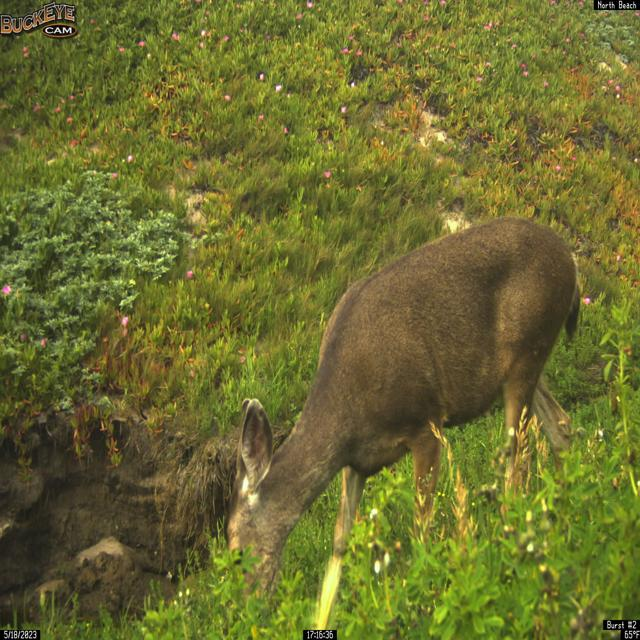deer: (223, 215, 583, 632)
